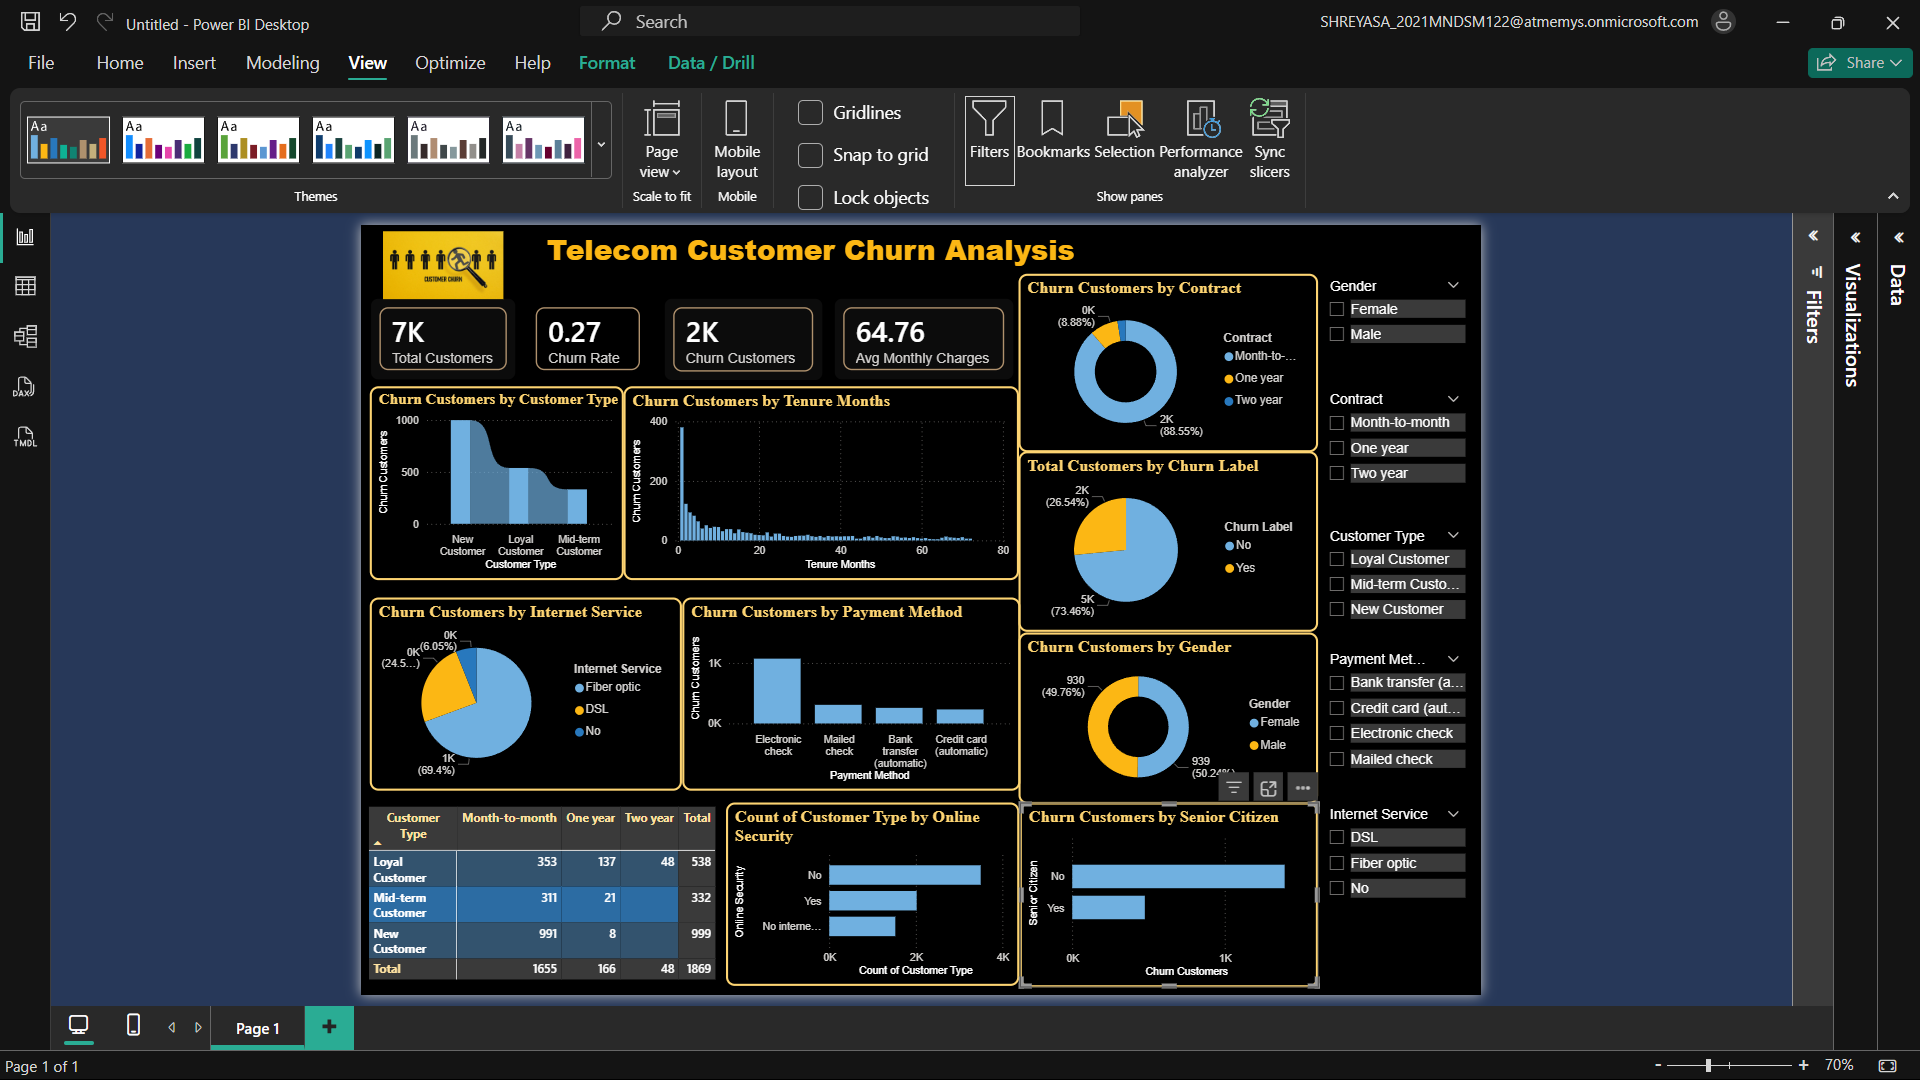

What the dashboard file says about the page in this screenshot:
{"tool":"powerbi","page":{"name":"Page 1","canvas":[1280,880],"ordinal":0},"visuals":[{"type":"cardVisual","fields":{"Data":["Telco_customer_churn.Churn Rate","Telco_customer_churn.Churn Rate"]},"box":[182.8,77.8,153.7,106.8],"z":0},{"type":"cardVisual","fields":{"Data":["Telco_customer_churn.Total Customers"]},"box":[3.7,77.8,179,106.8],"z":1000},{"type":"cardVisual","fields":{"Data":["Telco_customer_churn.Churn Customers"]},"box":[340,77.7,194.1,107],"z":2000},{"type":"cardVisual","fields":{"Data":["Telco_customer_churn.Avg Monthly Charges"]},"box":[534.2,77.8,218.4,106.8],"z":3000},{"type":"ribbonChart","fields":{"Category":["Telco_customer_churn.Customer Type"],"Y":["Telco_customer_churn.Churn Customers"]},"box":[9.4,184.7,290.7,221.4],"z":4000},{"type":"donutChart","fields":{"Category":["Telco_customer_churn.Contract"],"Y":["Telco_customer_churn.Churn Customers"]},"box":[752,55,342,204],"z":5000},{"type":"pieChart","fields":{"Y":["Telco_customer_churn.Total Customers"],"Category":["Telco_customer_churn.Churn Label"]},"box":[752,259,342,206],"z":6000},{"type":"clusteredColumnChart","fields":{"Y":["Telco_customer_churn.Churn Customers"],"Category":["Telco_customer_churn.Tenure Months"]},"box":[300.1,184.7,452.3,221.4],"z":7000},{"type":"pieChart","fields":{"Category":["Telco_customer_churn.Internet Service"],"Y":["Telco_customer_churn.Churn Customers"]},"box":[9.4,425.5,357.1,221.2],"z":8000},{"type":"textbox","box":[185.7,0,656.9,54.6],"z":9000},{"type":"slicer","fields":{"Values":["Telco_customer_churn.Gender"]},"box":[1094,55,173,96],"z":10000},{"type":"slicer","fields":{"Values":["Telco_customer_churn.Contract"]},"box":[1094,185,173,120],"z":11000},{"type":"slicer","fields":{"Values":["Telco_customer_churn.Customer Type"]},"box":[1094,341,173,129],"z":12000},{"type":"slicer","fields":{"Values":["Telco_customer_churn.Payment Method"]},"box":[1094,483,173,163],"z":13000},{"type":"slicer","fields":{"Values":["Telco_customer_churn.Internet Service"]},"box":[1094,660,173,164],"z":14000},{"type":"columnChart","fields":{"Category":["Telco_customer_churn.Payment Method"],"Y":["Telco_customer_churn.Churn Customers"]},"box":[366.4,425.5,386.1,221.2],"z":15000},{"type":"donutChart","fields":{"Category":["Telco_customer_churn.Gender"],"Y":["Telco_customer_churn.Churn Customers"]},"box":[752,465,342,196],"z":16000},{"type":"barChart","fields":{"Category":["Telco_customer_churn.Senior Citizen"],"Y":["Telco_customer_churn.Churn Customers"]},"box":[753,660,341,211],"z":17000},{"type":"clusteredBarChart","fields":{"Y":["CountNonNull(Telco_customer_churn.Customer Type)"],"Category":["Telco_customer_churn.Online Security"]},"box":[417,660.7,335.5,209.9],"z":18000},{"type":"pivotTable","fields":{"Rows":["Telco_customer_churn.Customer Type"],"Columns":["Telco_customer_churn.Contract"],"Values":["Telco_customer_churn.Churn Customers"]},"box":[3.7,660.7,407.7,209.9],"z":19000},{"type":"image","box":[16.8,7.3,153.2,77.7],"z":20000}]}

Visuals, with their boxes on the page's 1280x880 design canvas (x1, y1, x2, y2). These are canvas units, not pixel positions in the 1920x1080 screenshot, which may show the page scaled, cropped or inside an application window:
cardVisual - Telco_customer_churn.Churn Rate x Telco_customer_churn.Churn Rate: x1=183, y1=78, x2=336, y2=185
cardVisual - Telco_customer_churn.Total Customers: x1=4, y1=78, x2=183, y2=185
cardVisual - Telco_customer_churn.Churn Customers: x1=340, y1=78, x2=534, y2=185
cardVisual - Telco_customer_churn.Avg Monthly Charges: x1=534, y1=78, x2=753, y2=185
ribbonChart - Telco_customer_churn.Customer Type x Telco_customer_churn.Churn Customers: x1=9, y1=185, x2=300, y2=406
donutChart - Telco_customer_churn.Contract x Telco_customer_churn.Churn Customers: x1=752, y1=55, x2=1094, y2=259
pieChart - Telco_customer_churn.Total Customers x Telco_customer_churn.Churn Label: x1=752, y1=259, x2=1094, y2=465
clusteredColumnChart - Telco_customer_churn.Churn Customers x Telco_customer_churn.Tenure Months: x1=300, y1=185, x2=752, y2=406
pieChart - Telco_customer_churn.Internet Service x Telco_customer_churn.Churn Customers: x1=9, y1=426, x2=366, y2=647
textbox: x1=186, y1=0, x2=843, y2=55
slicer - Telco_customer_churn.Gender: x1=1094, y1=55, x2=1267, y2=151
slicer - Telco_customer_churn.Contract: x1=1094, y1=185, x2=1267, y2=305
slicer - Telco_customer_churn.Customer Type: x1=1094, y1=341, x2=1267, y2=470
slicer - Telco_customer_churn.Payment Method: x1=1094, y1=483, x2=1267, y2=646
slicer - Telco_customer_churn.Internet Service: x1=1094, y1=660, x2=1267, y2=824
columnChart - Telco_customer_churn.Payment Method x Telco_customer_churn.Churn Customers: x1=366, y1=426, x2=752, y2=647
donutChart - Telco_customer_churn.Gender x Telco_customer_churn.Churn Customers: x1=752, y1=465, x2=1094, y2=661
barChart - Telco_customer_churn.Senior Citizen x Telco_customer_churn.Churn Customers: x1=753, y1=660, x2=1094, y2=871
clusteredBarChart - CountNonNull(Telco_customer_churn.Customer Type) x Telco_customer_churn.Online Security: x1=417, y1=661, x2=752, y2=871
pivotTable - Telco_customer_churn.Customer Type x Telco_customer_churn.Contract: x1=4, y1=661, x2=411, y2=871
image: x1=17, y1=7, x2=170, y2=85
